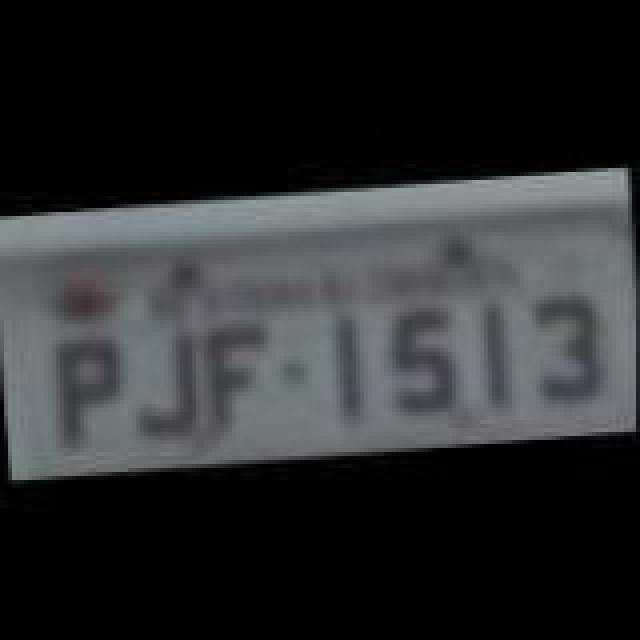1: (474, 292, 514, 408), (330, 306, 370, 418)
3: (530, 292, 610, 404)
5: (384, 304, 460, 420)
F: (202, 320, 282, 436)
J: (126, 324, 206, 436)
P: (48, 328, 132, 448)
